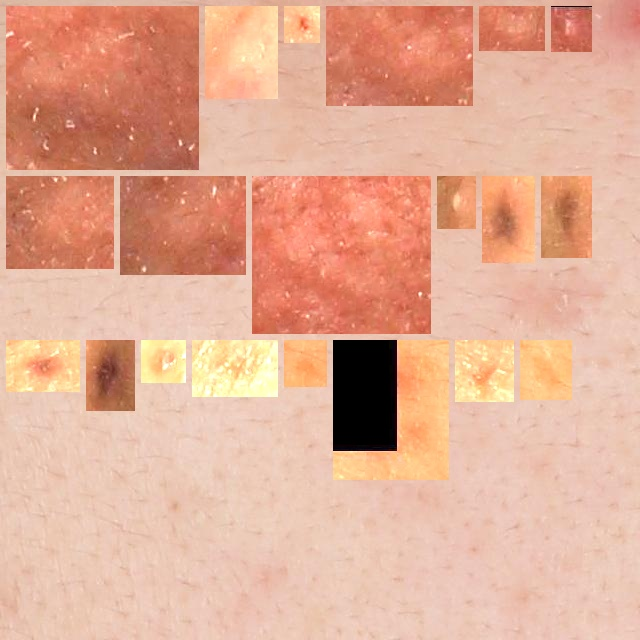hypertrophic_scar: (14, 14, 191, 162), (260, 184, 423, 326), (334, 14, 465, 98), (128, 184, 238, 267), (14, 184, 106, 261), (213, 14, 270, 91), (487, 14, 537, 43)
melasma: (341, 348, 441, 472), (200, 348, 270, 389), (463, 348, 506, 394), (528, 348, 564, 392), (292, 348, 319, 379)
nevus: (490, 184, 527, 255), (549, 184, 584, 250), (14, 348, 72, 384), (94, 348, 127, 403), (149, 348, 178, 375), (292, 14, 312, 35)
pustule: (445, 184, 468, 221), (559, 14, 584, 44)
